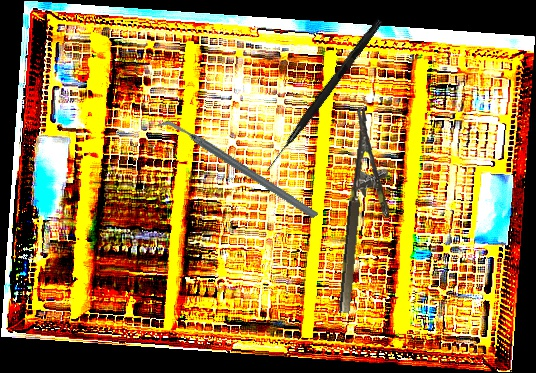Chopper: (155, 76, 320, 263)
Hook Surgical: (263, 16, 384, 176)
Needle Holder: (336, 107, 400, 317)
